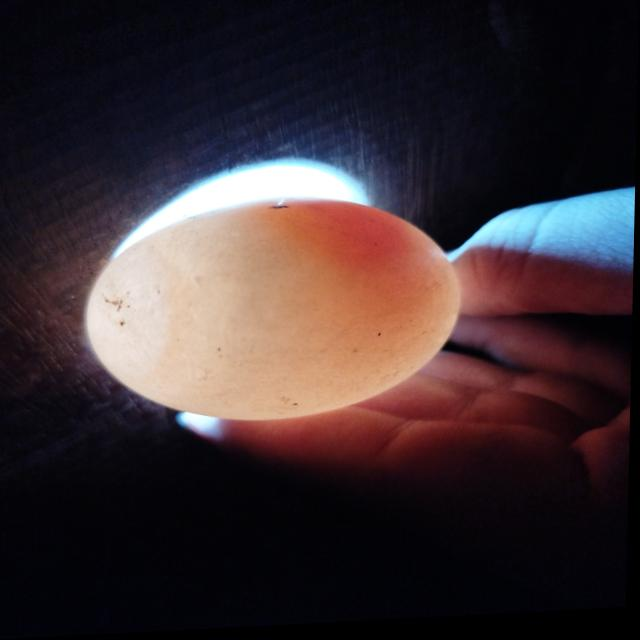Camara de Ar: (88, 247, 169, 385)
Gema Quebrada: (254, 204, 416, 322)
